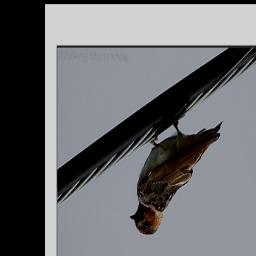Swallow: (129, 114, 225, 238)
